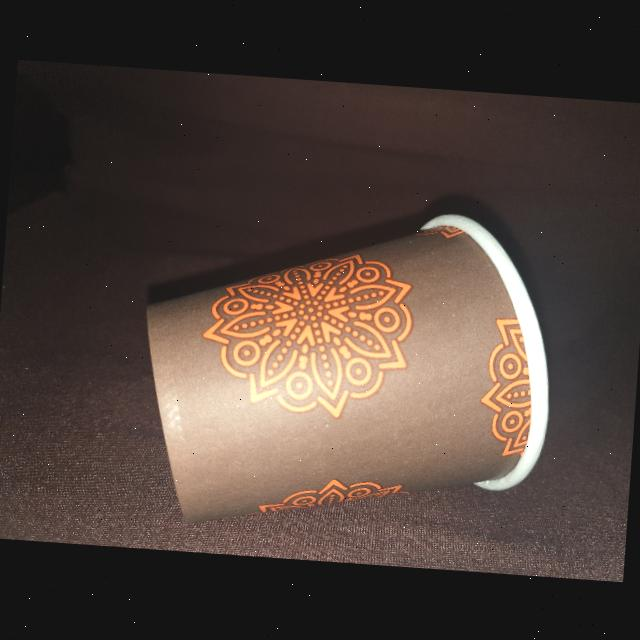trash: (126, 184, 566, 550)
